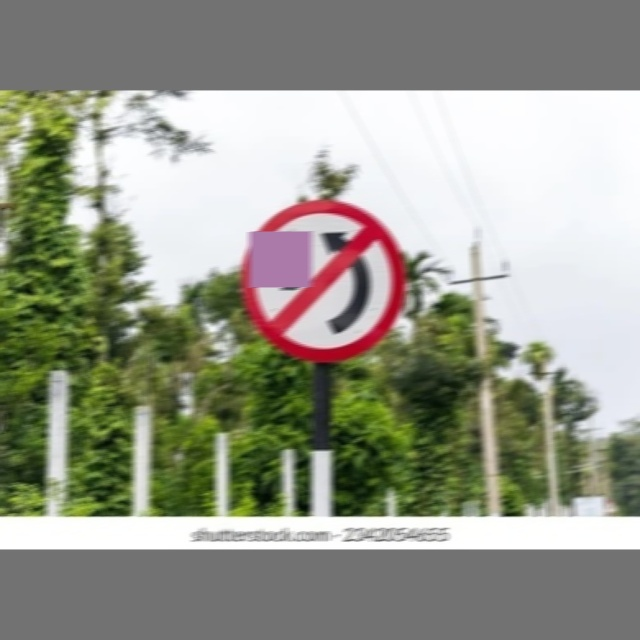Overtaking_Prohibited: (242, 205, 408, 366)
